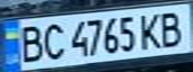4: (66, 17, 90, 57)
5: (118, 12, 139, 53)
6: (103, 14, 124, 54)
7: (84, 16, 106, 56)
B: (12, 21, 48, 64), (154, 8, 190, 47)
C: (36, 20, 69, 61)
K: (136, 10, 166, 51)
